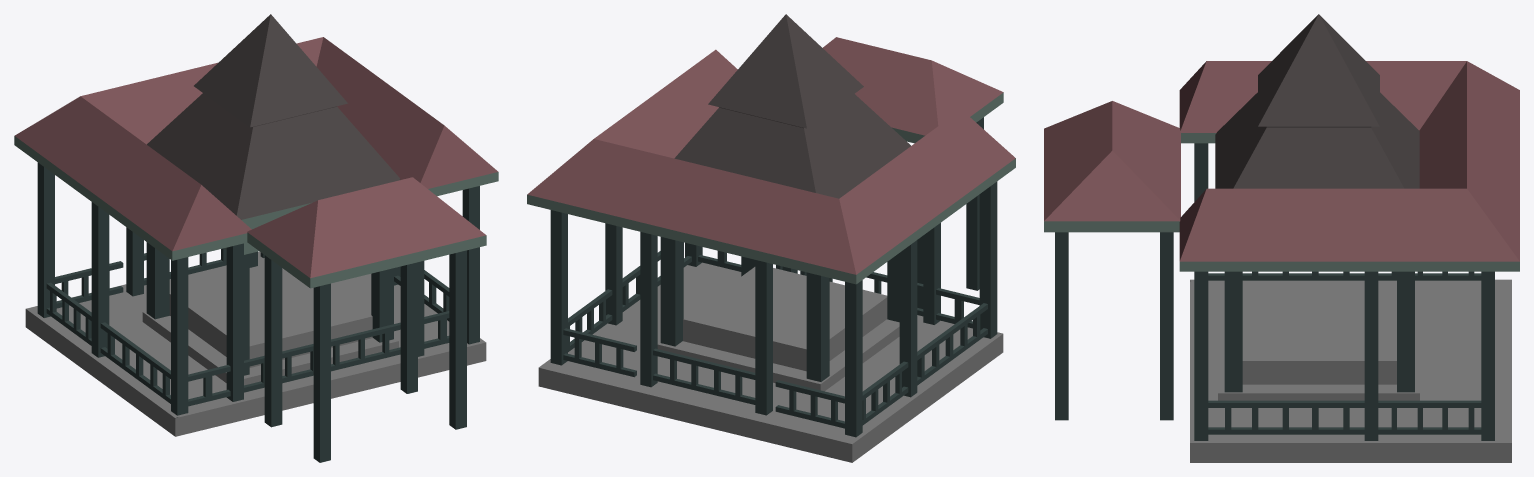
Rendered from B_Pancaniti.fbx.
3 views of the same model, side by side, from view 1: azimuth 30°, elevation 25°; view 2: azimuth 150°, elevation 25°; view 3: azimuth 270°, elevation 25° (orthographic). The views are drawn at different scales.
Visible parts, largest first — view 1: B_Pancaniti; view 2: B_Pancaniti; view 3: B_Pancaniti.
Part boxes in pixels (x1,y1,x2,y2): B_Pancaniti: [14, 14, 498, 462]; B_Pancaniti: [527, 14, 1015, 462]; B_Pancaniti: [1044, 14, 1519, 462].
Size of the model in its own units: 357 by 357 by 419.
1 material, 1 textured.
